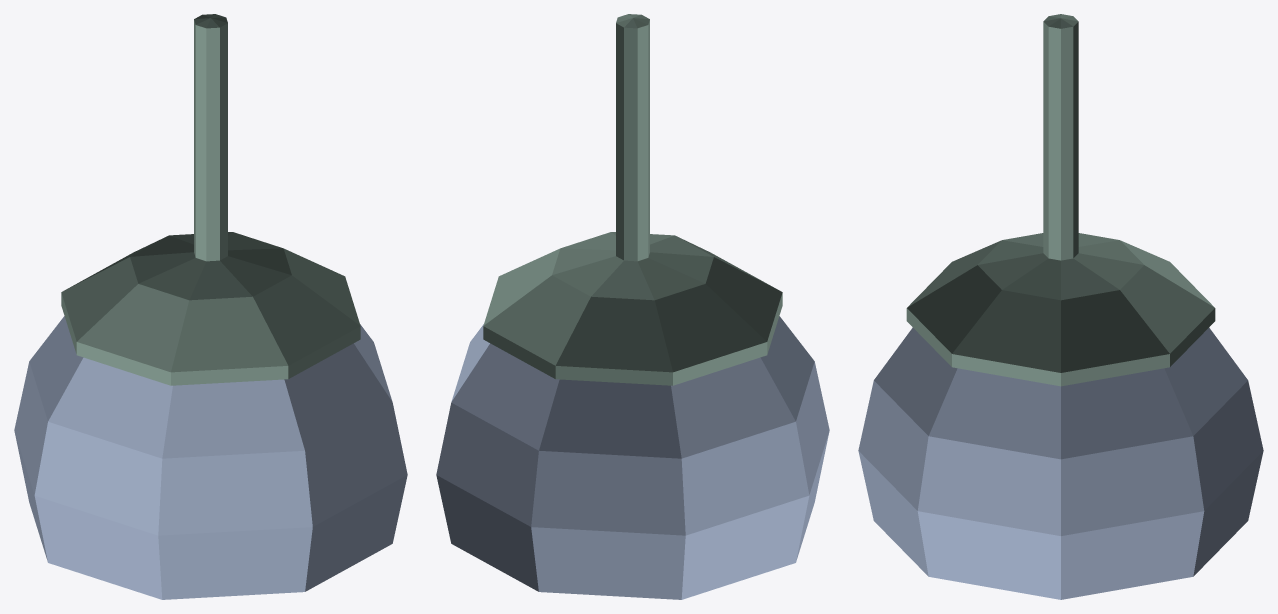
Rendered from Ceiling Light 2.fbx.
The picture shows the model from 3 angles, left to right: view 1: azimuth 30°, elevation 25°; view 2: azimuth 150°, elevation 25°; view 3: azimuth 270°, elevation 25°; orthographic projection.
Parts seen in each view (by area): view 1: Node 0; view 2: Node 0; view 3: Node 0.
Boxes of the visible parts, <box> form: Node 0: <box>14,14,407,599</box>; Node 0: <box>436,14,829,599</box>; Node 0: <box>858,14,1263,599</box>.
Size of the model in its own units: 0.5157 by 0.7057 by 0.5157.
